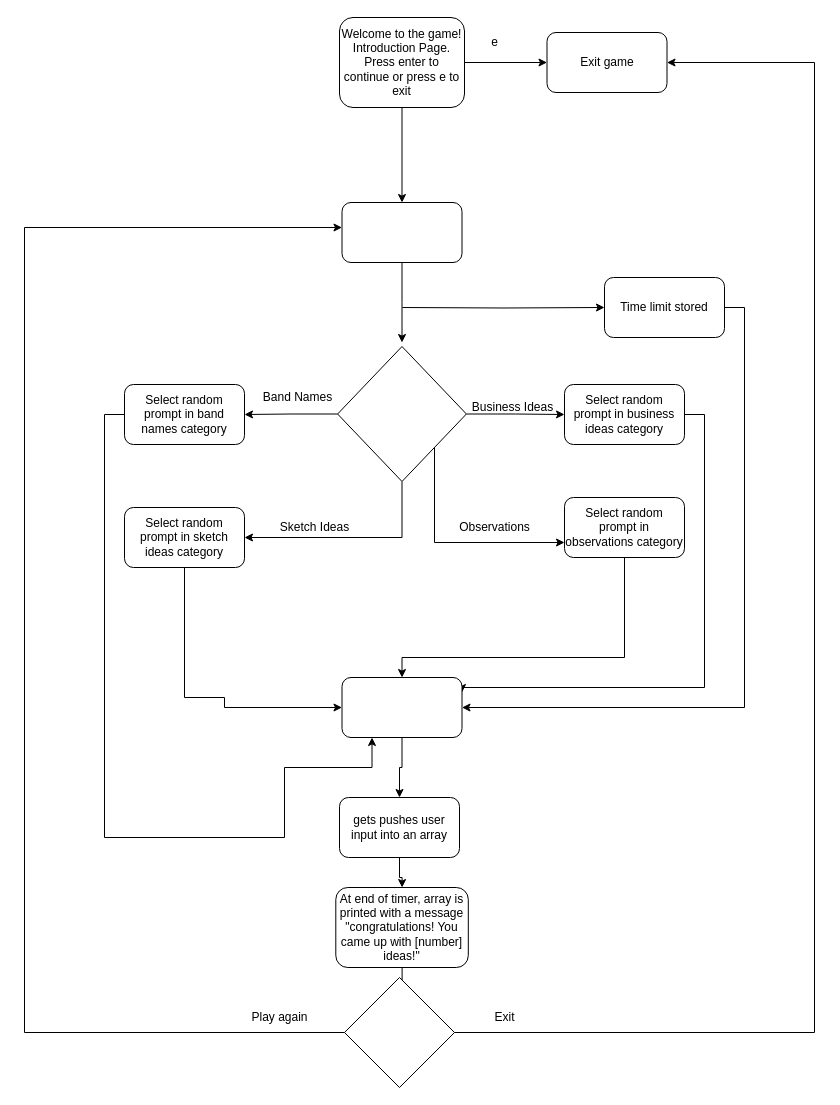
Image size: 840x1105. Some labels were removed from this diagram. Here are the shapes that lost their labels. From the top down, the centre of each, then its label:
the point at 401,232: Select a time limit.
the point at 401,414: Select a prompt category
the point at 401,707: in time limit, generate as many ideas as possible for [prompt]
the point at 399,1032: Play again or exit?
